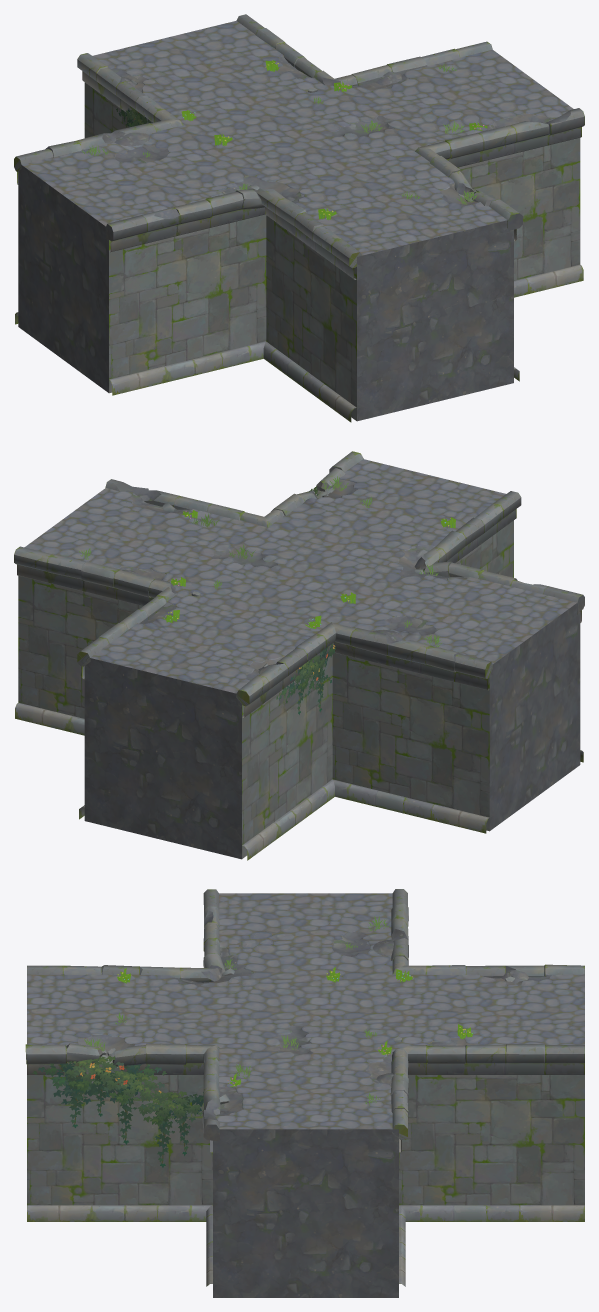
The model's file is Area_MdBuild_SdPlatform05_Group.fbx.
3 renders of one model, top to bottom at view 1: azimuth 30°, elevation 25°; view 2: azimuth 150°, elevation 25°; view 3: azimuth 270°, elevation 25°, orthographic. The views are drawn at different scales.
Visible parts, largest first — view 1: Area_MdBuild_SdPlatform05_Lod0; view 2: Area_MdBuild_SdPlatform05_Lod0, Stages_LYLvy107_Vo (1); view 3: Area_MdBuild_SdPlatform05_Lod0, Stages_LYLvy106_Vo (1).
Part boxes in pixels (x1=…): Area_MdBuild_SdPlatform05_Lod0: x1=14, y1=14, x2=584, y2=422; Area_MdBuild_SdPlatform05_Lod0: x1=14, y1=451, x2=584, y2=860; Stages_LYLvy107_Vo (1): x1=276, y1=643, x2=335, y2=714; Area_MdBuild_SdPlatform05_Lod0: x1=25, y1=889, x2=584, y2=1297; Stages_LYLvy106_Vo (1): x1=32, y1=1056, x2=203, y2=1167.
Size of the model in its own units: 30.04 by 10.63 by 30.69.
Materials: 8 (8 with a texture image).
